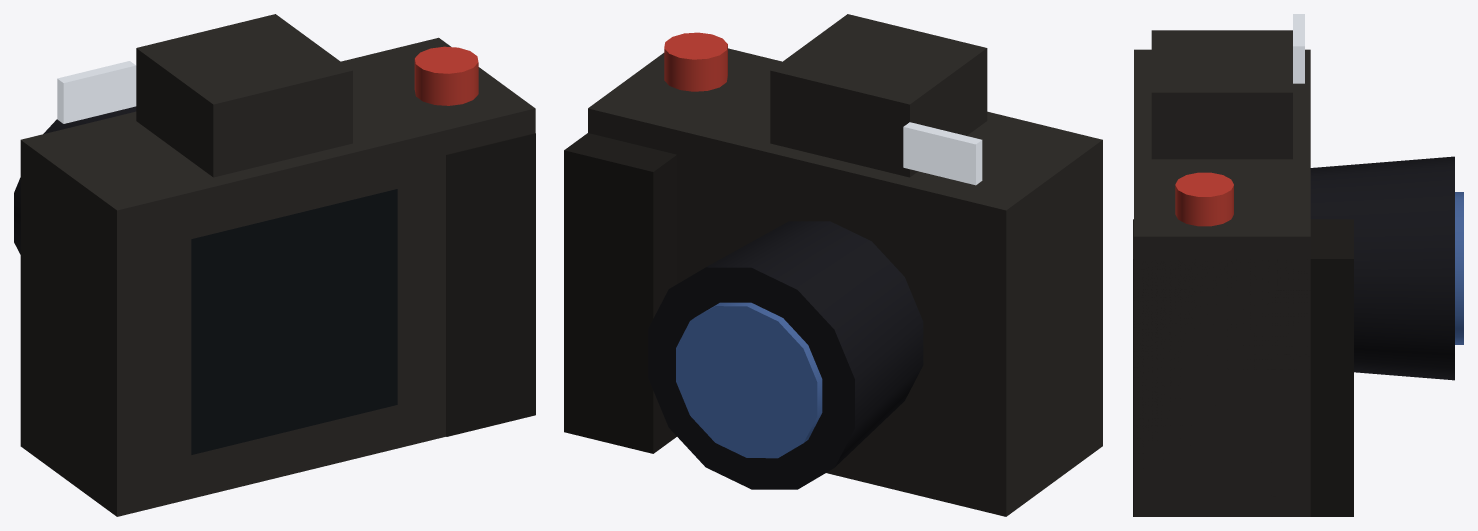
The model's file is camera.glb.
3 renders of one model, left to right at view 1: azimuth 30°, elevation 25°; view 2: azimuth 150°, elevation 25°; view 3: azimuth 270°, elevation 25°, orthographic. The views are drawn at different scales.
Parts seen in each view (by area): view 1: camera, screen, flash; view 2: camera, flash; view 3: camera, flash.
Part boxes in pixels (x1,y1,x2,y2): camera: [14, 14, 535, 516]; screen: [191, 189, 397, 454]; flash: [57, 61, 136, 123]; camera: [564, 14, 1102, 516]; flash: [903, 122, 982, 185]; camera: [1133, 30, 1463, 516]; flash: [1293, 14, 1304, 83].
Bounding box in the file's own units: 0.15 × 0.13 × 0.113.
